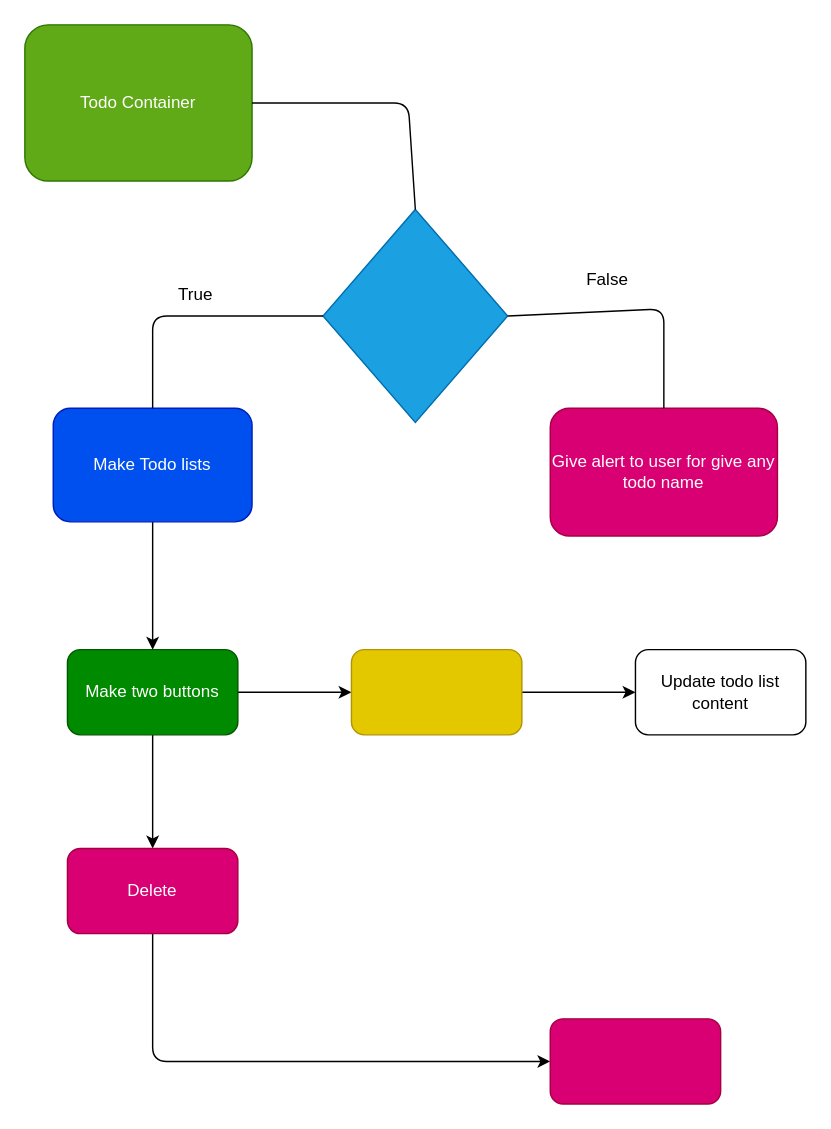
This 831x1129 diagram has some shape labels left out. The centre of each missing label's shape, as x and y in pixels:
Delete the Todo: point 635,1060
Edit: point 436,691
User Input: point 415,315
